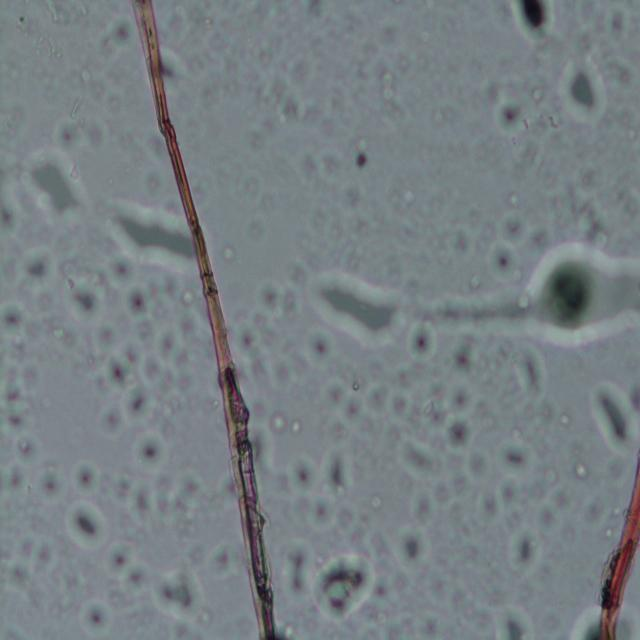Background material: (414, 238, 640, 359), (312, 267, 398, 356), (246, 281, 294, 408), (113, 201, 194, 272), (286, 455, 356, 531), (492, 208, 556, 281), (315, 554, 381, 624), (104, 339, 154, 427), (586, 376, 632, 454), (562, 56, 609, 126), (563, 188, 615, 247), (157, 316, 195, 396), (268, 75, 318, 130), (151, 569, 203, 620), (63, 497, 111, 551), (507, 0, 559, 49), (36, 162, 81, 216), (583, 0, 631, 49), (485, 598, 538, 640), (108, 543, 152, 592), (54, 110, 106, 151), (53, 253, 109, 291), (129, 481, 175, 526), (400, 434, 441, 483), (376, 370, 413, 421), (15, 247, 56, 291), (395, 522, 429, 575), (284, 538, 314, 596), (177, 477, 204, 541), (297, 142, 343, 179), (386, 609, 440, 640), (496, 434, 532, 480), (537, 484, 573, 529), (516, 350, 544, 402), (2, 388, 31, 436), (338, 504, 368, 550), (206, 535, 236, 581), (491, 102, 529, 136), (80, 597, 114, 635), (134, 428, 164, 471), (300, 327, 331, 368), (421, 386, 449, 431), (20, 532, 55, 568), (100, 21, 132, 59), (329, 387, 361, 424), (409, 321, 437, 363), (508, 530, 536, 572), (68, 286, 103, 319), (360, 25, 399, 54), (38, 468, 69, 502), (43, 0, 88, 23), (70, 465, 102, 496), (604, 53, 634, 86), (101, 402, 127, 440), (244, 172, 272, 206), (444, 414, 469, 452), (109, 254, 137, 287), (272, 411, 304, 438), (467, 448, 491, 483), (575, 609, 602, 640), (342, 176, 367, 209), (412, 489, 434, 526), (32, 34, 62, 60), (162, 53, 184, 88), (15, 434, 40, 464), (110, 473, 132, 506), (79, 67, 103, 97), (0, 303, 25, 329), (348, 138, 368, 170), (128, 289, 150, 317), (96, 322, 118, 349), (447, 385, 468, 412), (19, 367, 41, 392), (294, 0, 326, 17), (499, 479, 518, 507), (48, 326, 72, 348), (0, 202, 16, 234), (17, 9, 32, 39), (453, 352, 473, 374), (485, 496, 501, 522), (452, 473, 468, 499), (7, 470, 23, 495), (220, 245, 240, 265), (503, 509, 520, 532), (380, 72, 392, 104), (178, 289, 198, 308), (148, 170, 164, 193), (502, 187, 518, 209), (576, 458, 588, 483), (192, 542, 205, 565), (556, 410, 570, 431), (545, 112, 559, 131), (540, 400, 554, 419), (531, 88, 545, 104), (73, 96, 83, 117), (371, 491, 382, 510), (602, 527, 618, 538), (212, 403, 222, 411)
Cotton: (132, 1, 282, 638), (596, 440, 640, 639)
